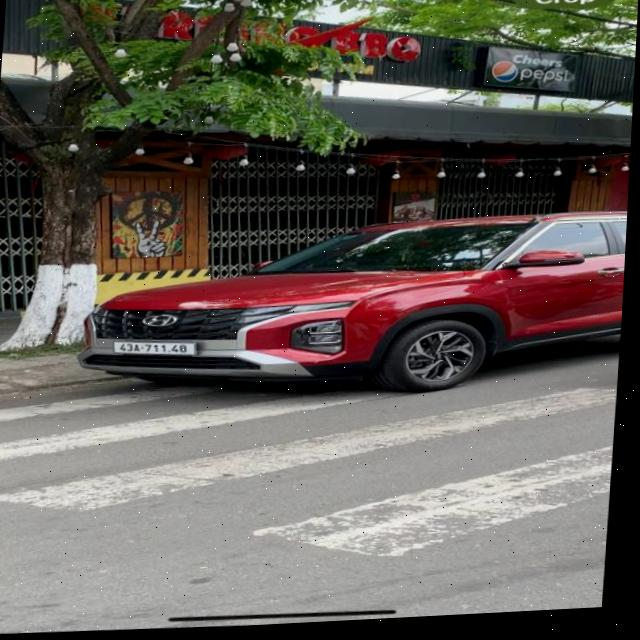car: (70, 196, 628, 416)
plate: (106, 332, 204, 366)
